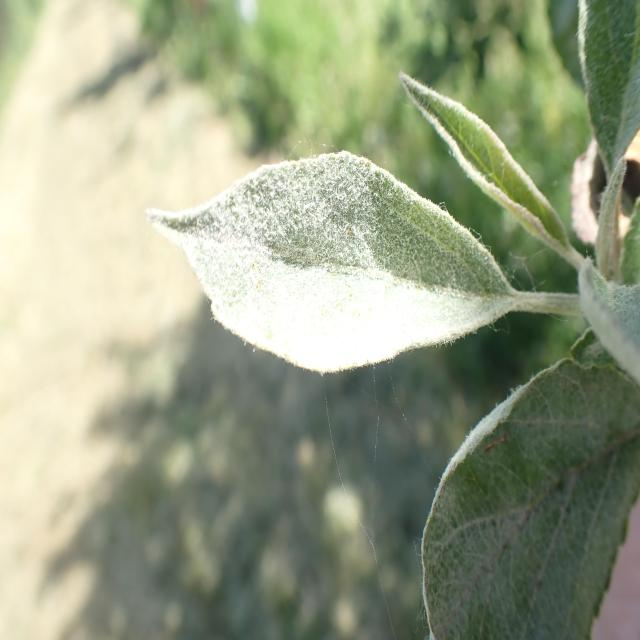Powdery_mildew: (146, 119, 512, 403), (343, 325, 640, 640), (397, 71, 568, 272), (570, 0, 640, 239), (564, 235, 640, 398)
